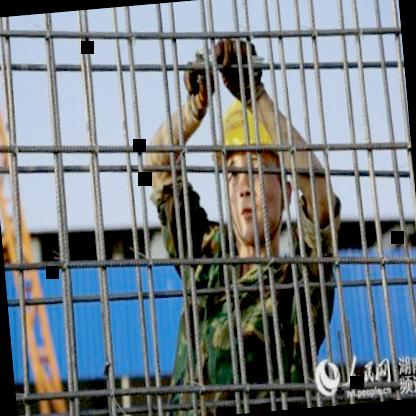helmet: (201, 92, 303, 252)
